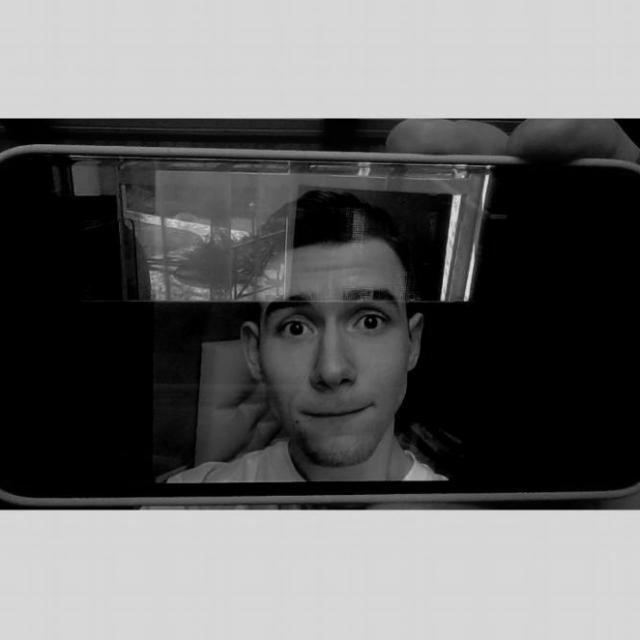fake: (0, 152, 640, 506)
